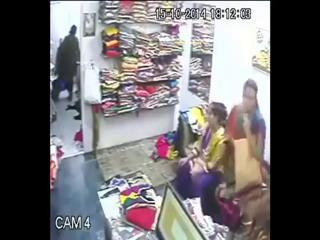Normal: (174, 102, 236, 226), (54, 24, 80, 102)
